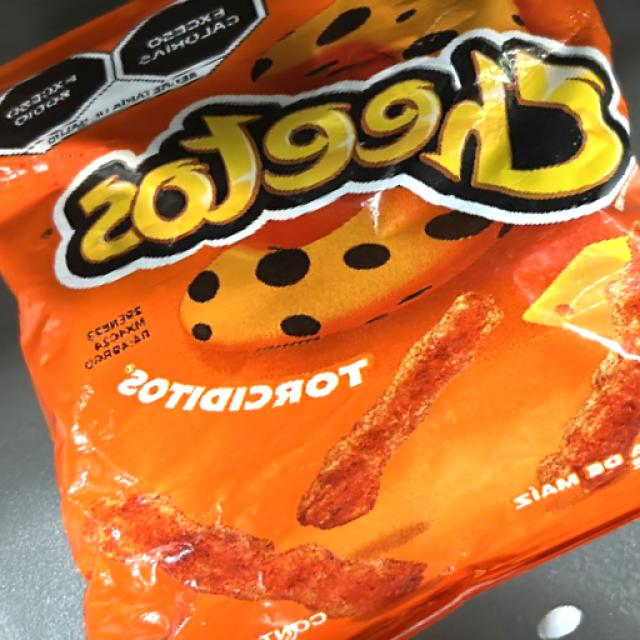cheetosOriginal: (13, 31, 603, 578)
